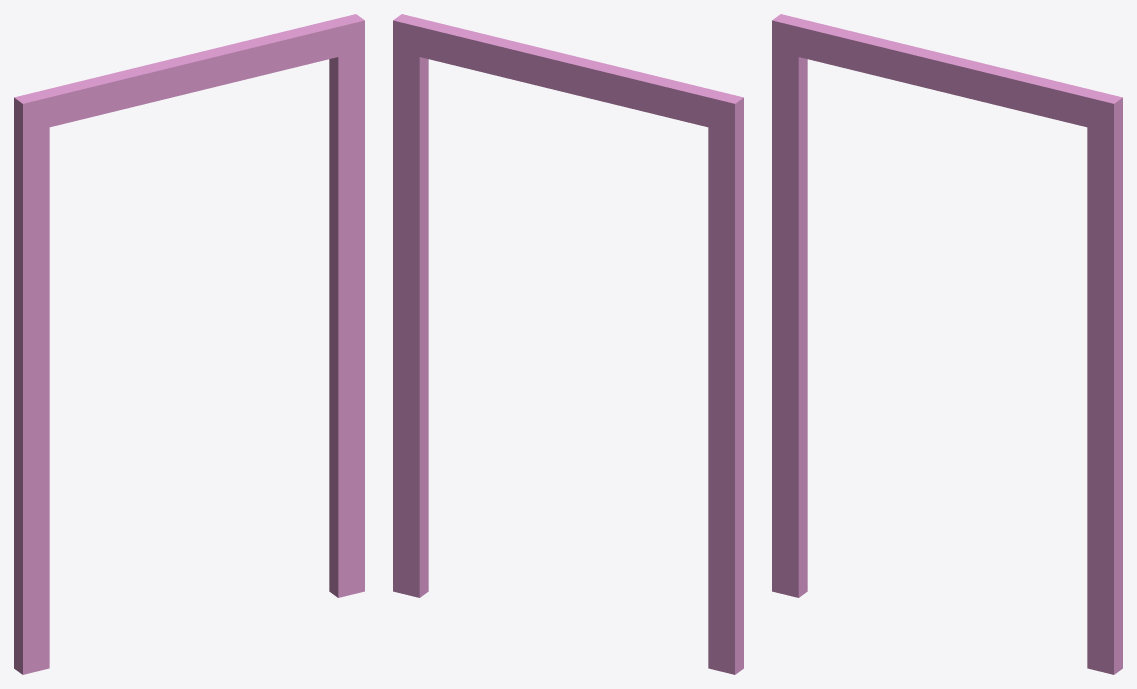
The model's file is apartment-balcony-door.glb.
3 renders of one model, left to right at view 1: azimuth 30°, elevation 25°; view 2: azimuth 150°, elevation 25°; view 3: azimuth 330°, elevation 25°, orthographic.
Visible parts, largest first — view 1: S1|SM_ModKit04_Apartment_BalconyDoor_01a#0; view 2: S1|SM_ModKit04_Apartment_BalconyDoor_01a#0; view 3: S1|SM_ModKit04_Apartment_BalconyDoor_01a#0.
Boxes of the visible parts, x1,y1,x2,y2 form: S1|SM_ModKit04_Apartment_BalconyDoor_01a#0: (14,14,364,674); S1|SM_ModKit04_Apartment_BalconyDoor_01a#0: (393,14,743,674); S1|SM_ModKit04_Apartment_BalconyDoor_01a#0: (772,14,1122,674).
Size of the model in its own units: 1.68 by 2.68 by 0.0749.
